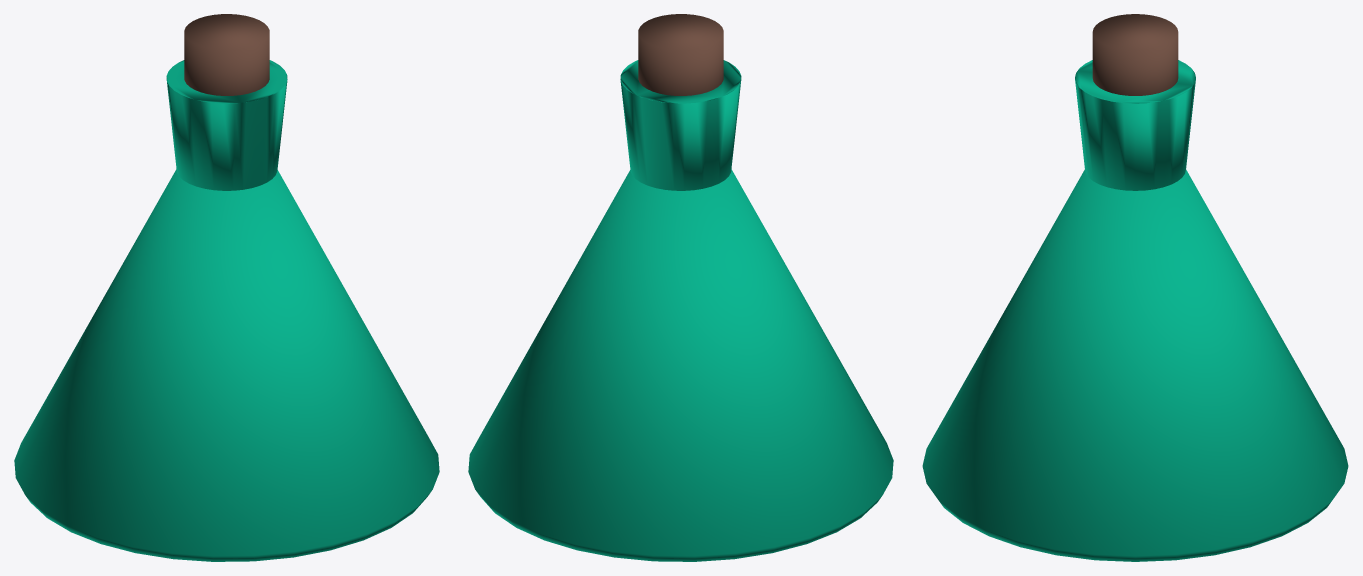
Rendered from CYAN CONE POTION.glb.
3 views of the same model, side by side, from view 1: azimuth 30°, elevation 25°; view 2: azimuth 150°, elevation 25°; view 3: azimuth 270°, elevation 25° (orthographic).
Parts seen in each view (by area): view 1: Cone, Cylinder; view 2: Cone, Cylinder; view 3: Cone, Cylinder.
Part boxes in pixels (<box>): Cone: <box>14,169,439,561</box>; Cylinder: <box>166,14,287,190</box>; Cone: <box>468,169,893,561</box>; Cylinder: <box>620,14,741,190</box>; Cone: <box>922,169,1348,561</box>; Cylinder: <box>1075,14,1195,190</box>.
Size of the model in its own units: 1.96 by 2.24 by 1.96.
